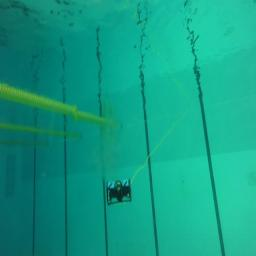front: (106, 178, 132, 206)
